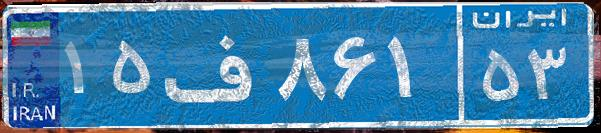1: (385, 28, 445, 110), (57, 26, 110, 107)
3: (525, 38, 570, 115)
5: (475, 38, 525, 113), (110, 28, 158, 105)
6: (330, 28, 385, 110)
8: (273, 28, 330, 110)
ف: (158, 15, 273, 115)
